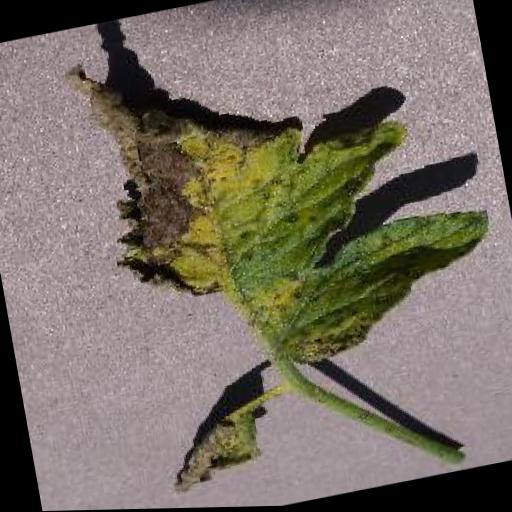Septoria: (59, 0, 512, 501)
